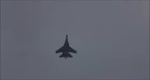maybay_muctieu: (55, 33, 78, 61)
